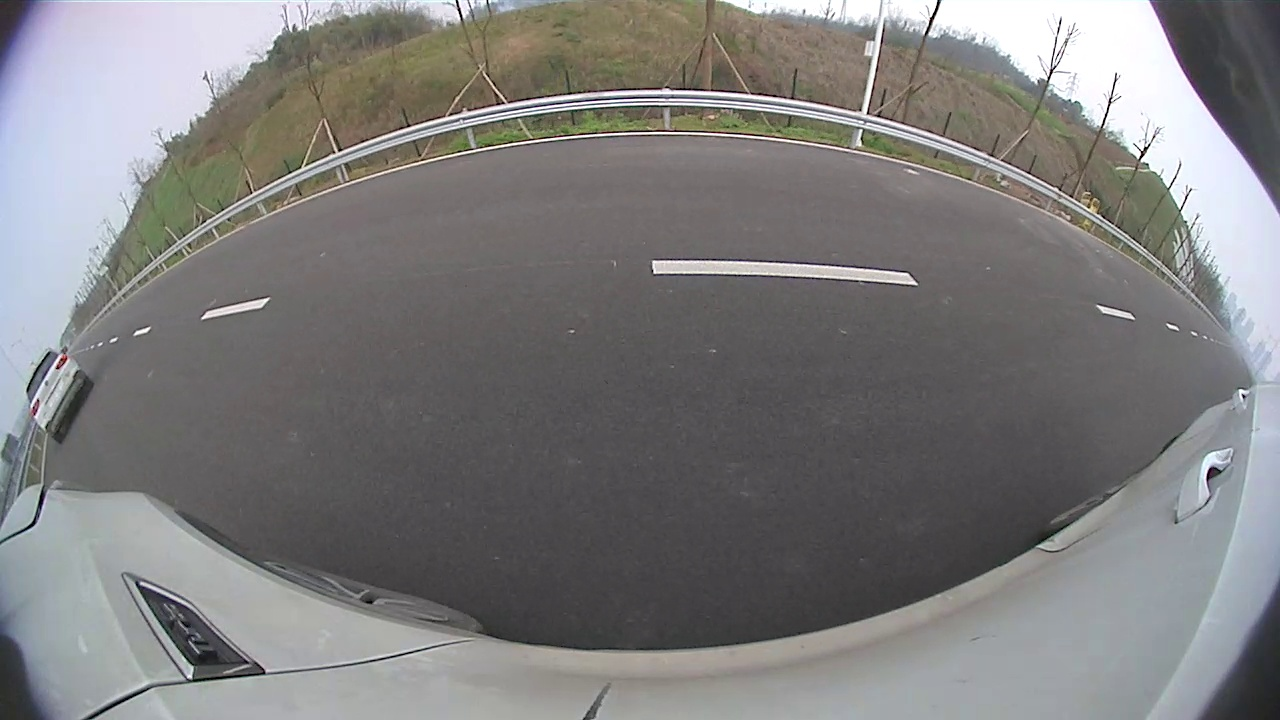car: (25, 347, 94, 444)
